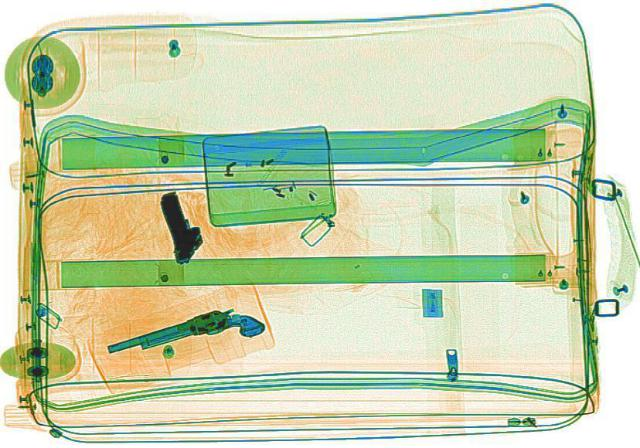Gun: (102, 298, 268, 375), (154, 188, 210, 262)
